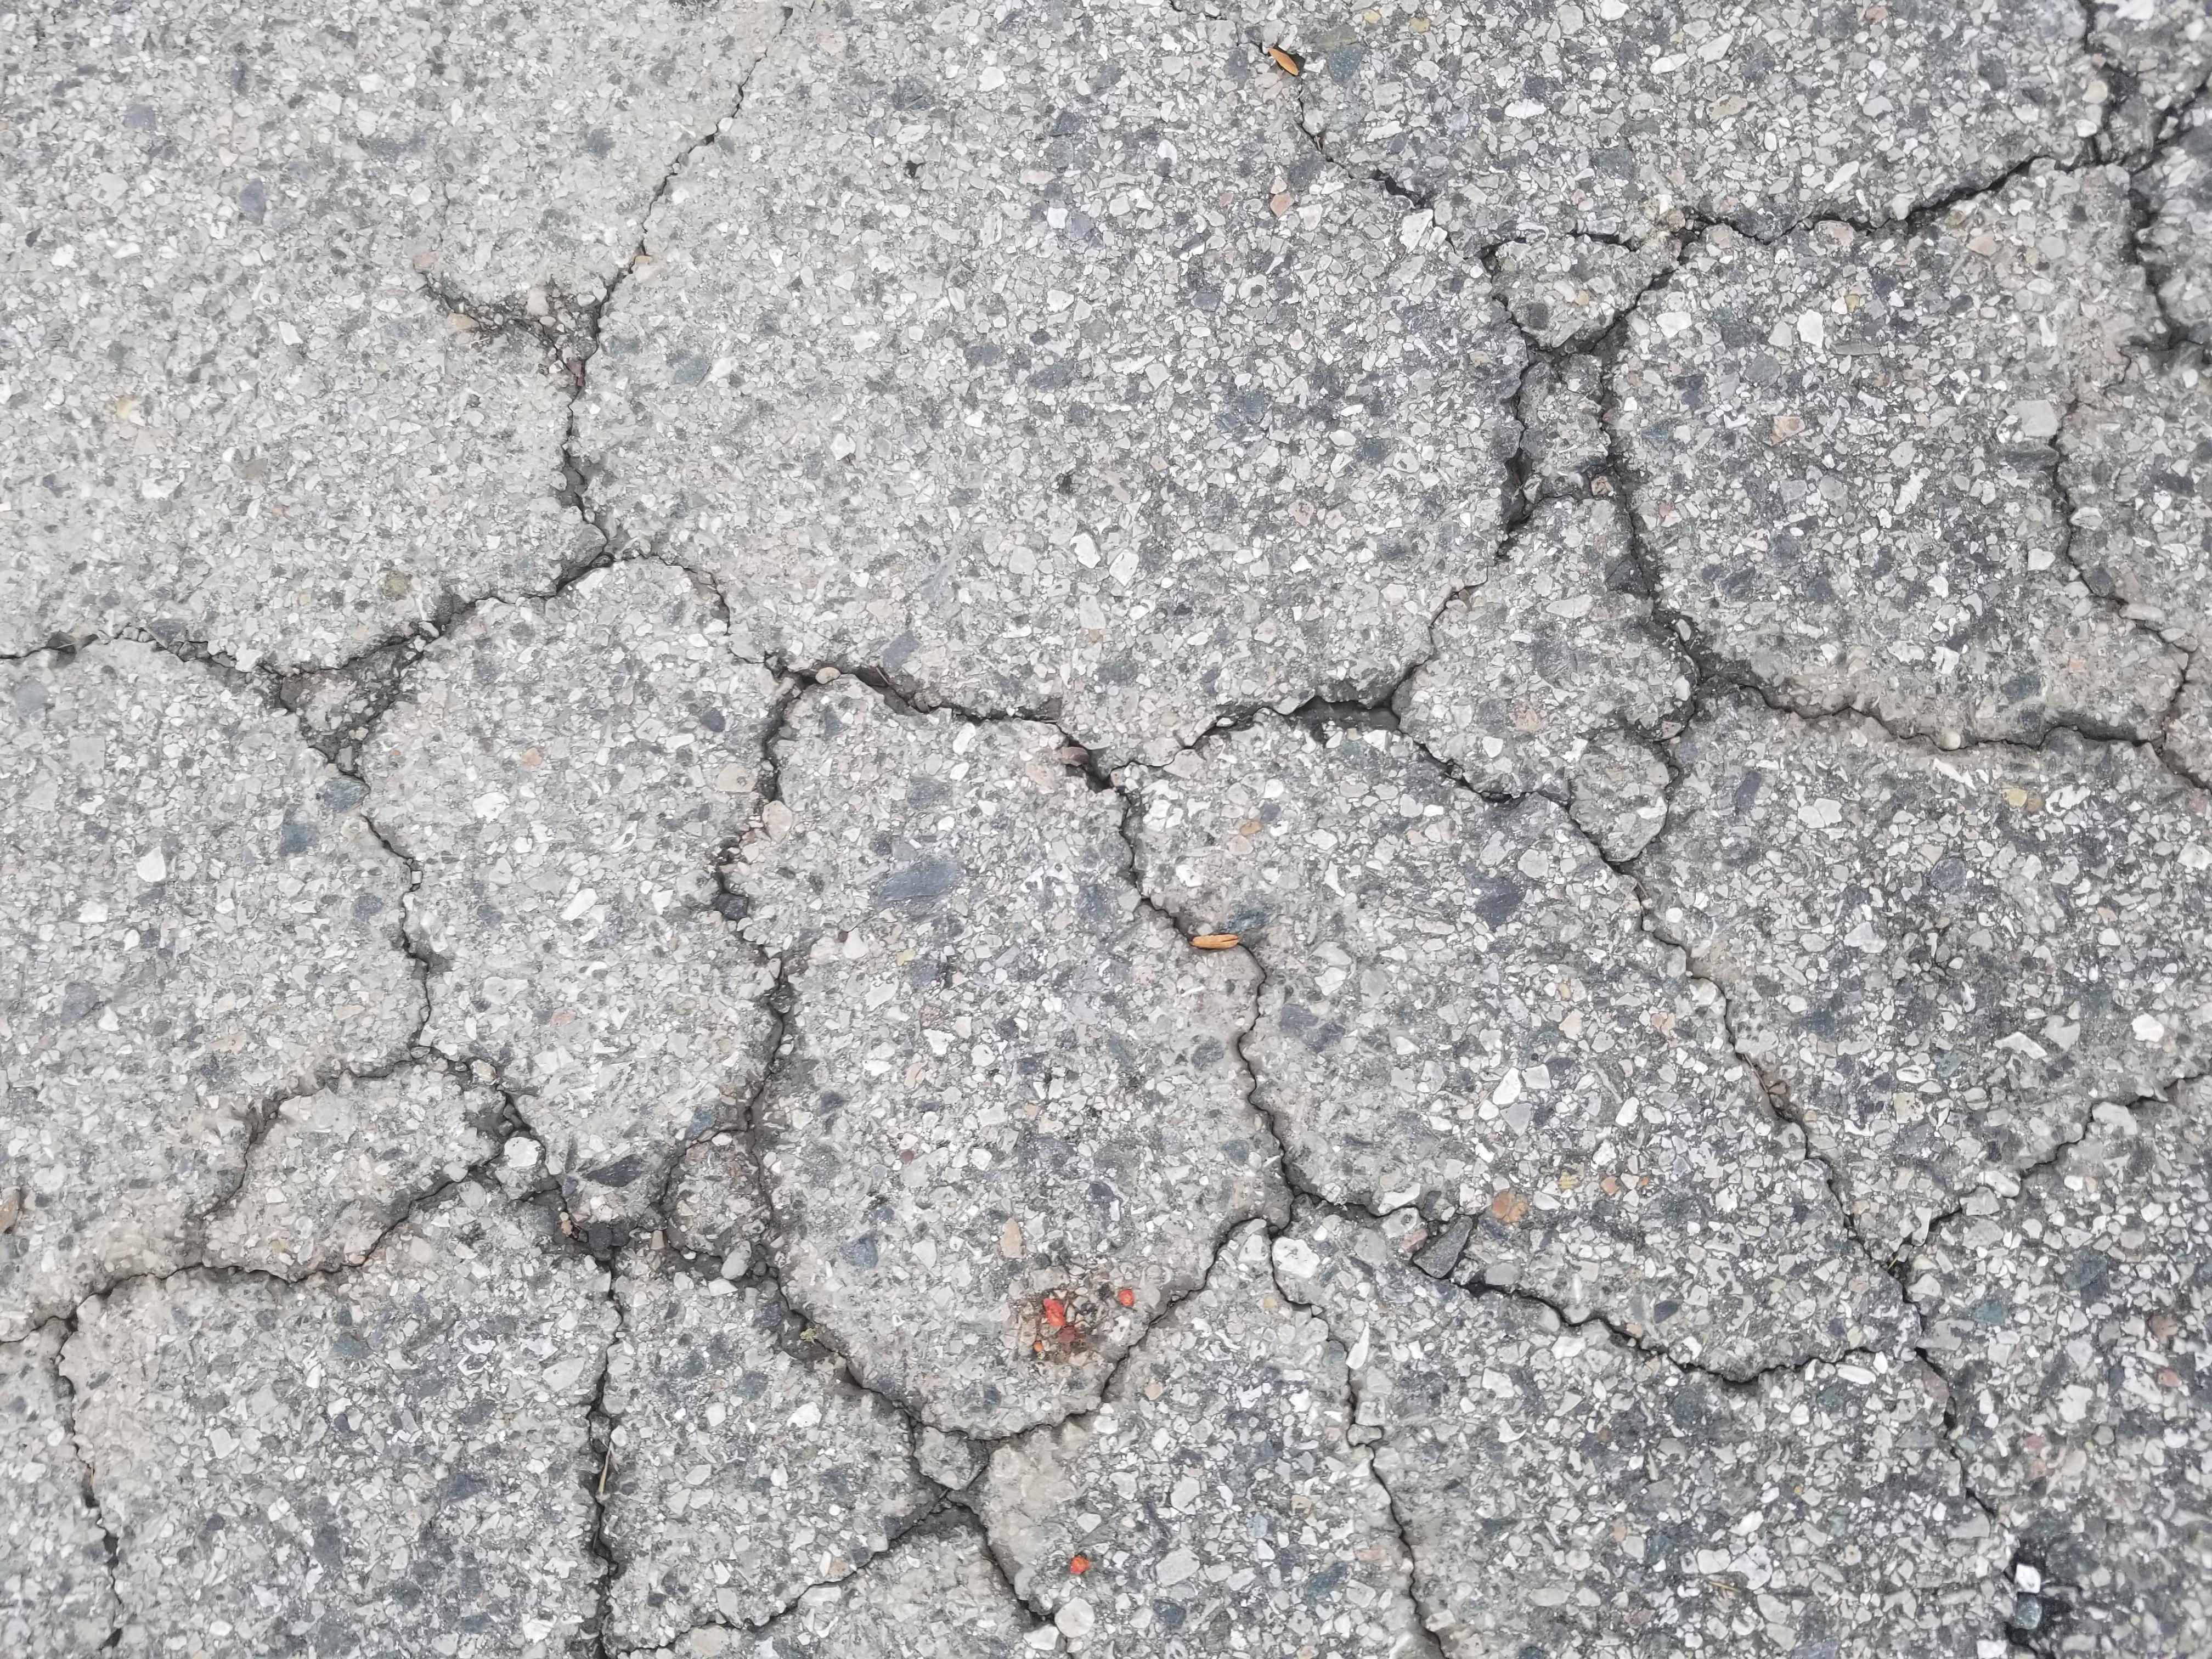alligator-crack: (17, 30, 2212, 1659)
